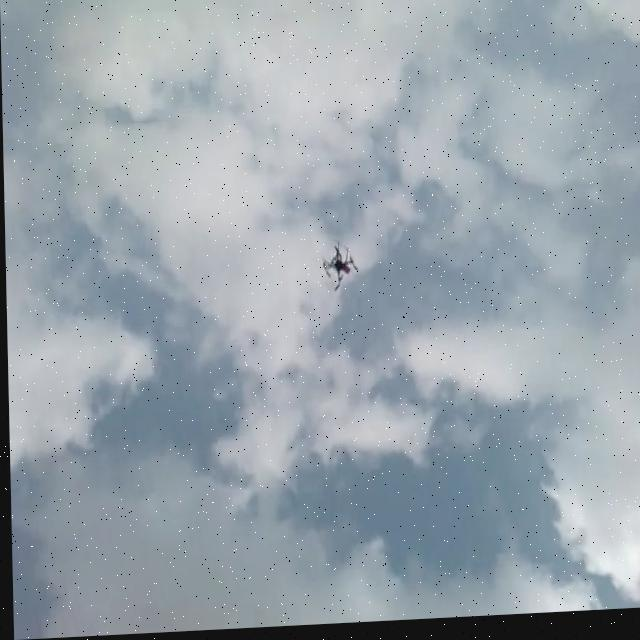drone: (319, 247, 359, 298)
